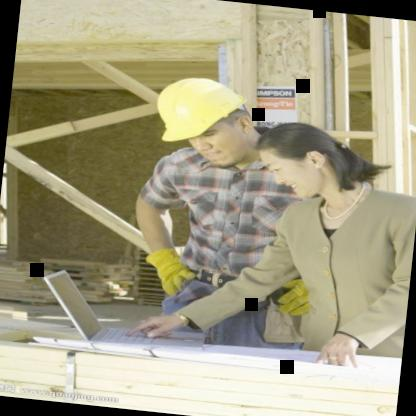helmet: (139, 63, 272, 172)
